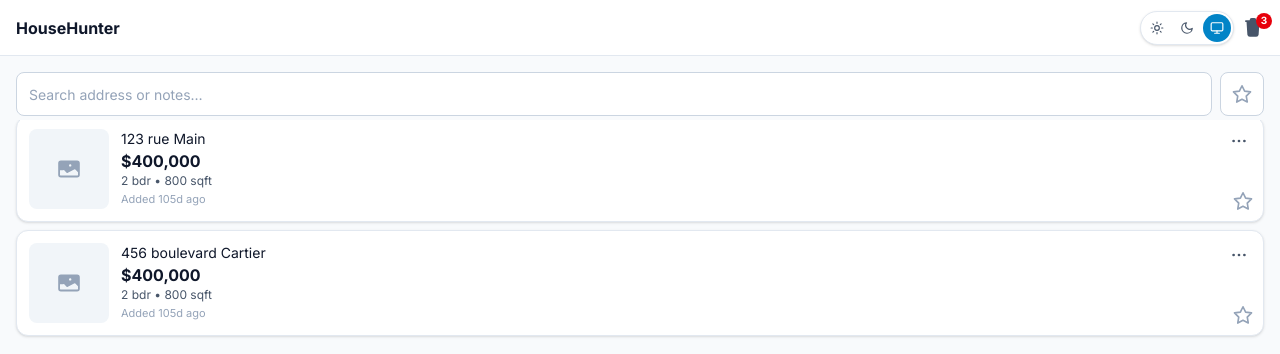
Test: /recent page › restores the full list when the clear-search button is tapped
Type "cartier" into the field named "search listings" at (614, 94), box left=16, top=72, right=1212, bottom=116
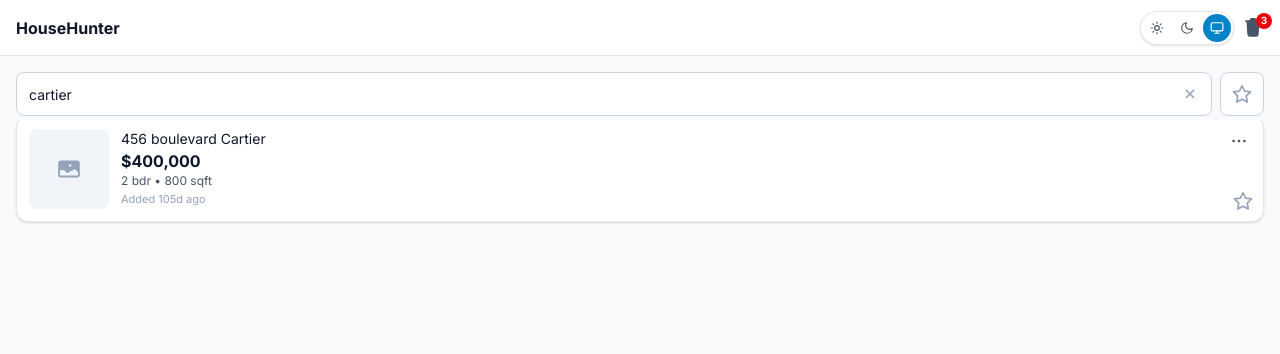
Check: the number of buttons with test id "listing-card-body" is 1, box left=17, top=117, right=1263, bottom=221
Click the button named "clear search" at (1190, 94), box left=1174, top=78, right=1206, bottom=110
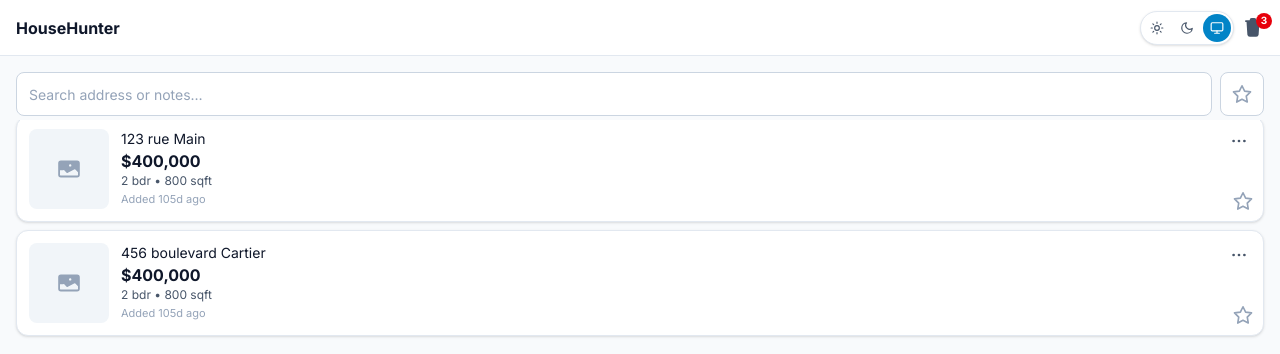
Check: the field named "search listings" is empty, box left=16, top=72, right=1212, bottom=116
Check: the number of buttons with test id "listing-card-body" is 2, box left=17, top=117, right=1263, bottom=221; left=17, top=231, right=1263, bottom=335
